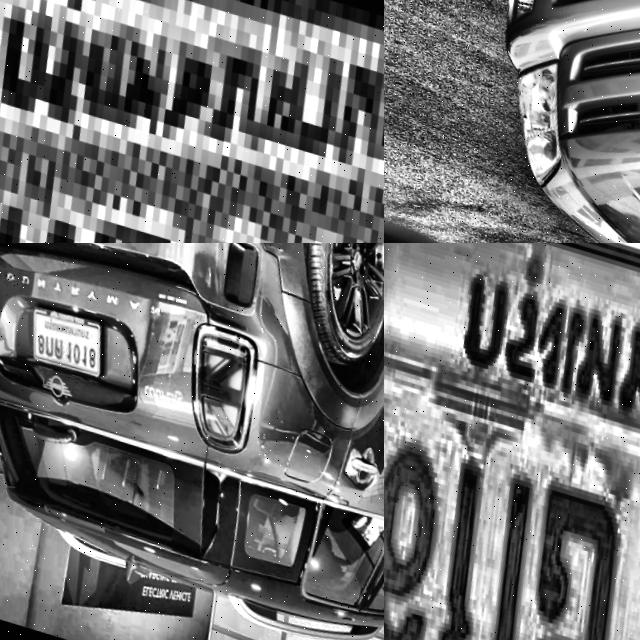license-plate: (384, 243, 640, 640), (0, 0, 384, 243), (10, 288, 111, 385)
